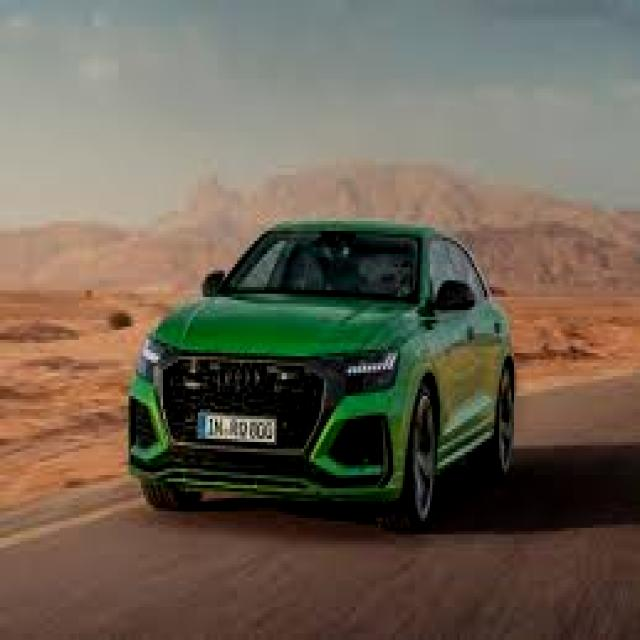SUV: (122, 216, 515, 531)
